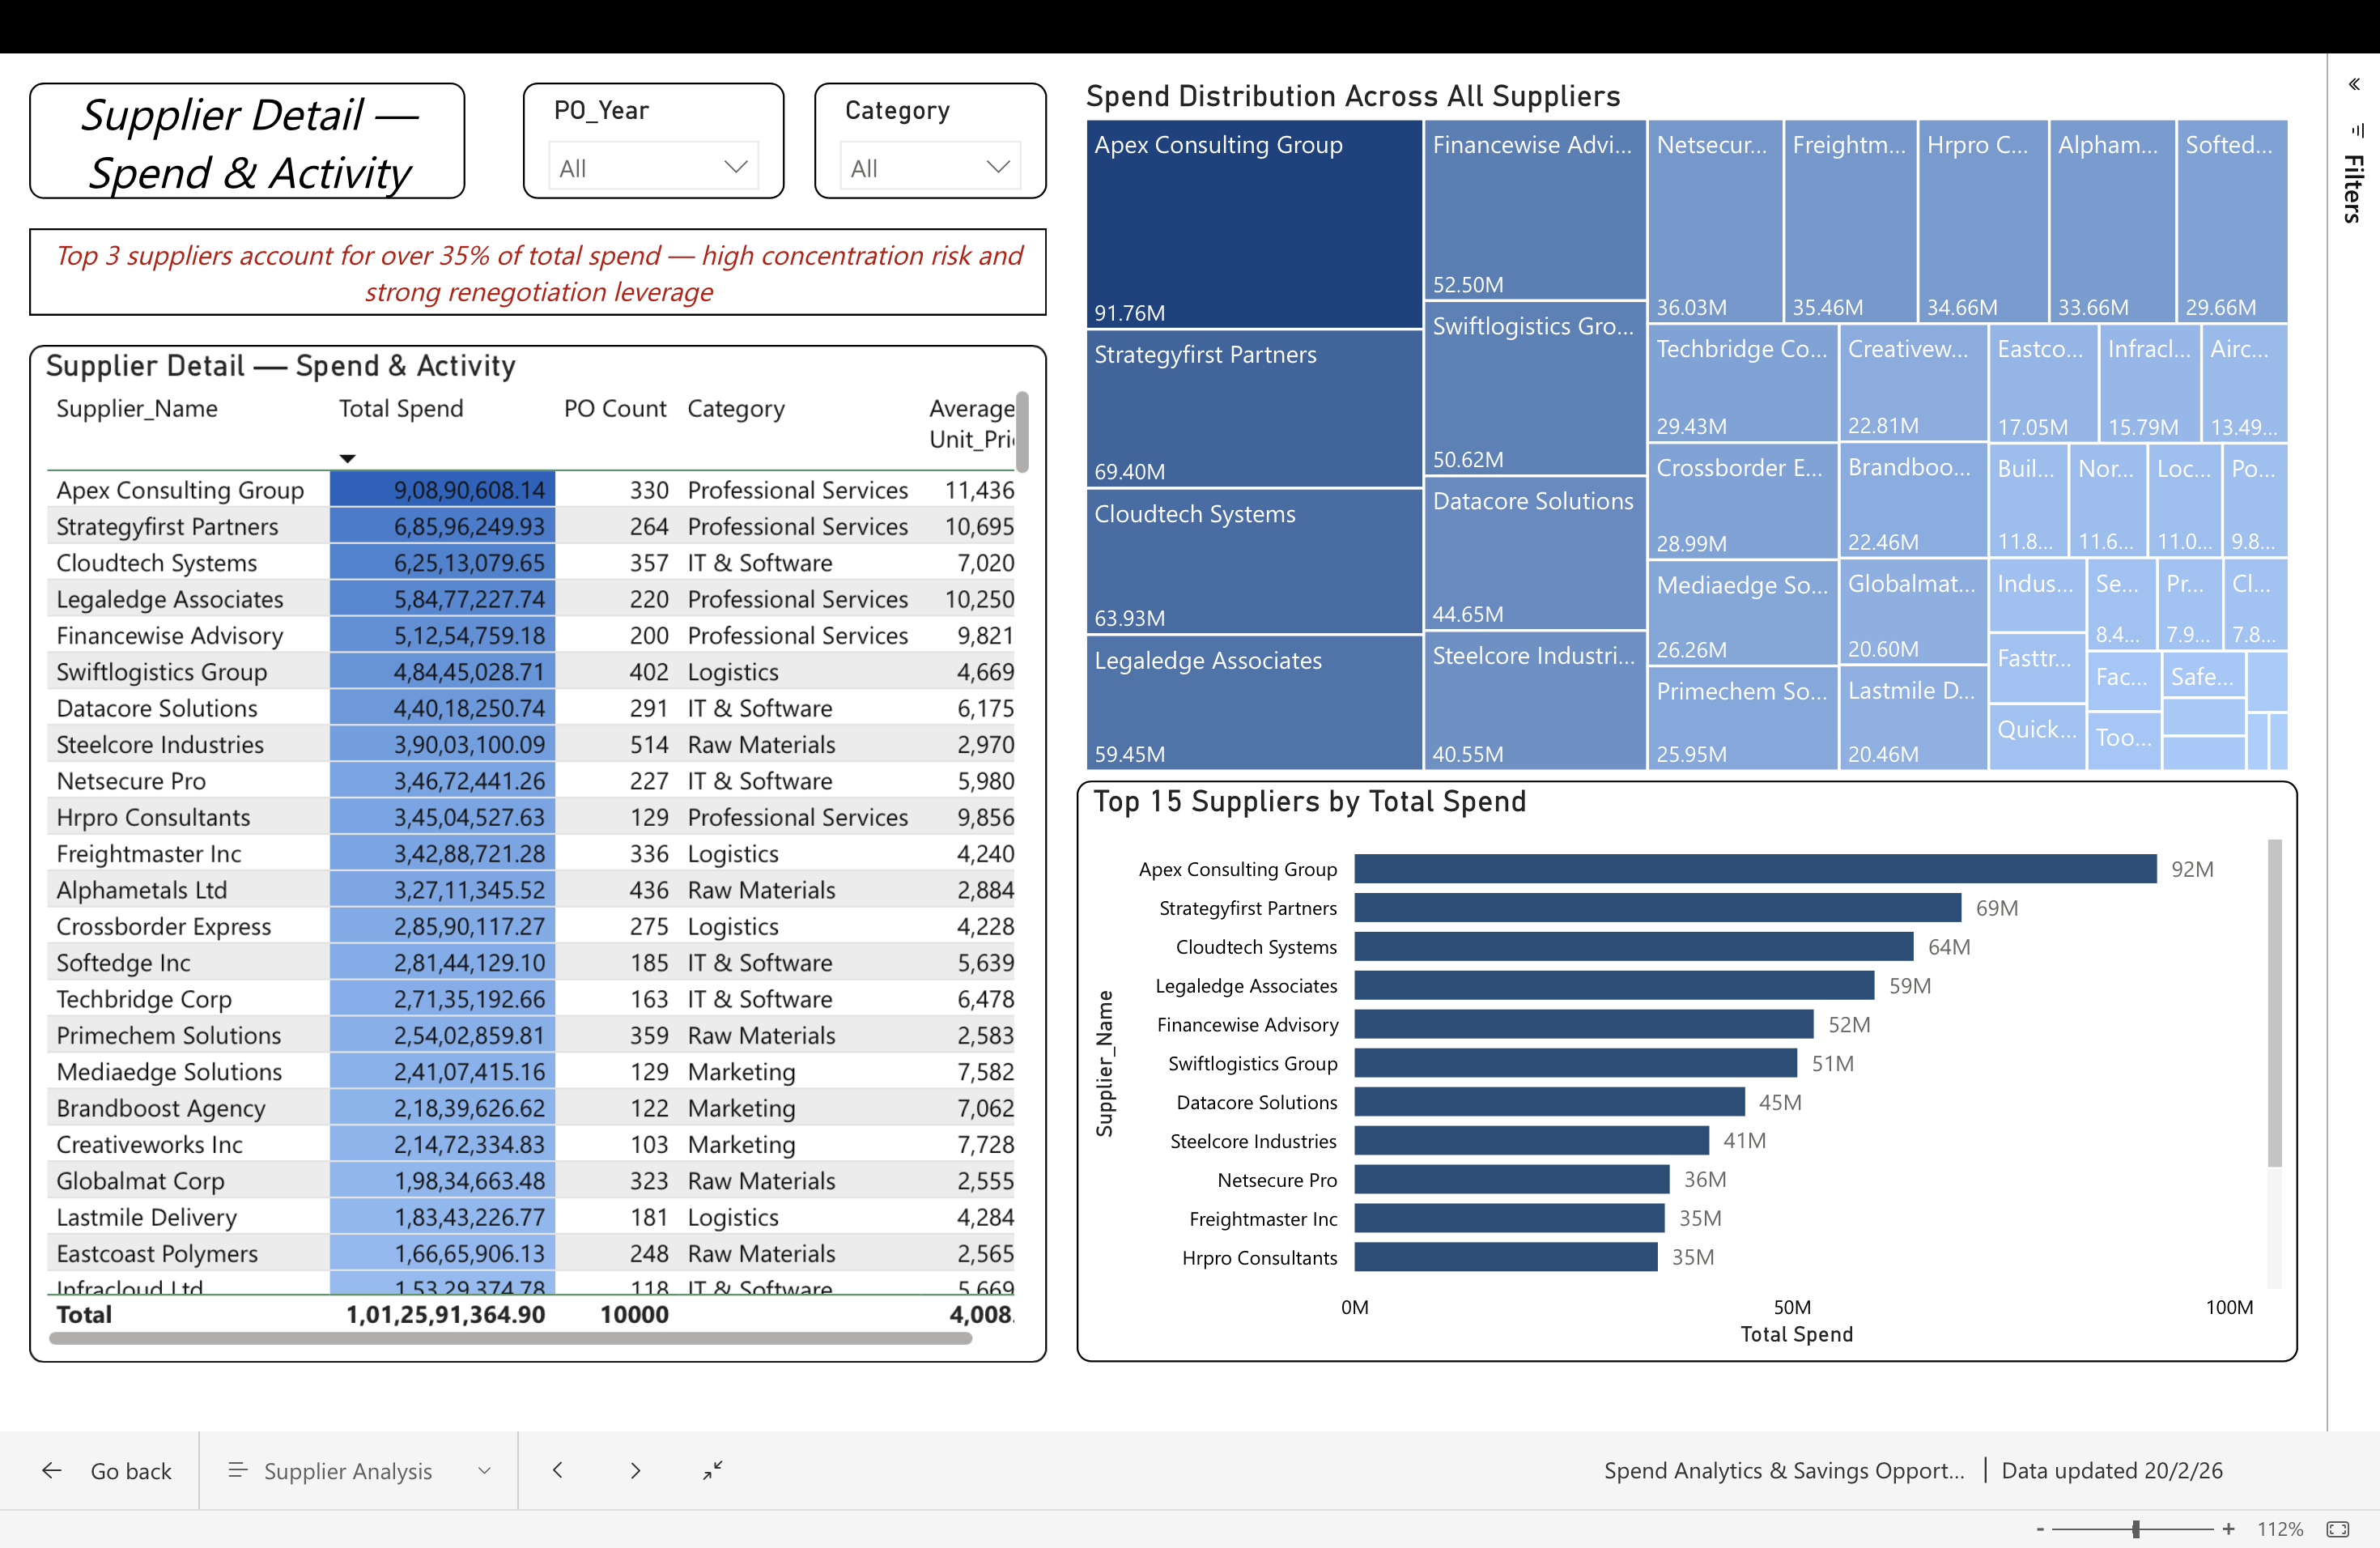

The page's visual inventory and layout, read from the dashboard file:
{"tool":"powerbi","page":{"name":"Supplier Analysis","canvas":[1280,720],"ordinal":1},"visuals":[{"type":"shape","box":[16,16,240,64],"z":0},{"type":"slicer","fields":{"Values":["dashboard_main.PO_Year"]},"box":[288,16,144,64],"z":1000},{"type":"slicer","fields":{"Values":["dashboard_main.Category"]},"box":[448,16,128,64],"z":2000},{"type":"clusteredBarChart","title":"Top 15 Suppliers by Total Spend","fields":{"Category":["dashboard_main.Supplier_Name"],"Y":["dashboard_main.Total Spend"]},"box":[592,400,672,320],"z":3000},{"type":"treemap","title":"Spend Distribution Across All Suppliers","fields":{"Group":["dashboard_main.Supplier_Name"],"Values":["dashboard_main.Total Spend"]},"box":[592,16,672,384],"z":5000},{"type":"tableEx","title":"Supplier Detail — Spend & Activity","fields":{"Values":["dashboard_main.Supplier_Name","dashboard_main.Total Spend","dashboard_main.PO Count","dashboard_main.Category","Avg(dashboard_main.Unit_Price)"]},"box":[16,160,560,560],"z":6000},{"type":"shape","box":[16,96,560,48],"z":6001}]}

Visuals, with their boxes on the page's 1280x720 design canvas (x1, y1, x2, y2). These are canvas units, not pixel positions in the 2380x1548 screenshot, which may show the page scaled, cropped or inside an application window:
shape: bbox=(16, 16, 256, 80)
slicer - dashboard_main.PO_Year: bbox=(288, 16, 432, 80)
slicer - dashboard_main.Category: bbox=(448, 16, 576, 80)
"Top 15 Suppliers by Total Spend" clusteredBarChart: bbox=(592, 400, 1264, 720)
"Spend Distribution Across All Suppliers" treemap: bbox=(592, 16, 1264, 400)
"Supplier Detail — Spend & Activity" tableEx: bbox=(16, 160, 576, 720)
shape: bbox=(16, 96, 576, 144)
